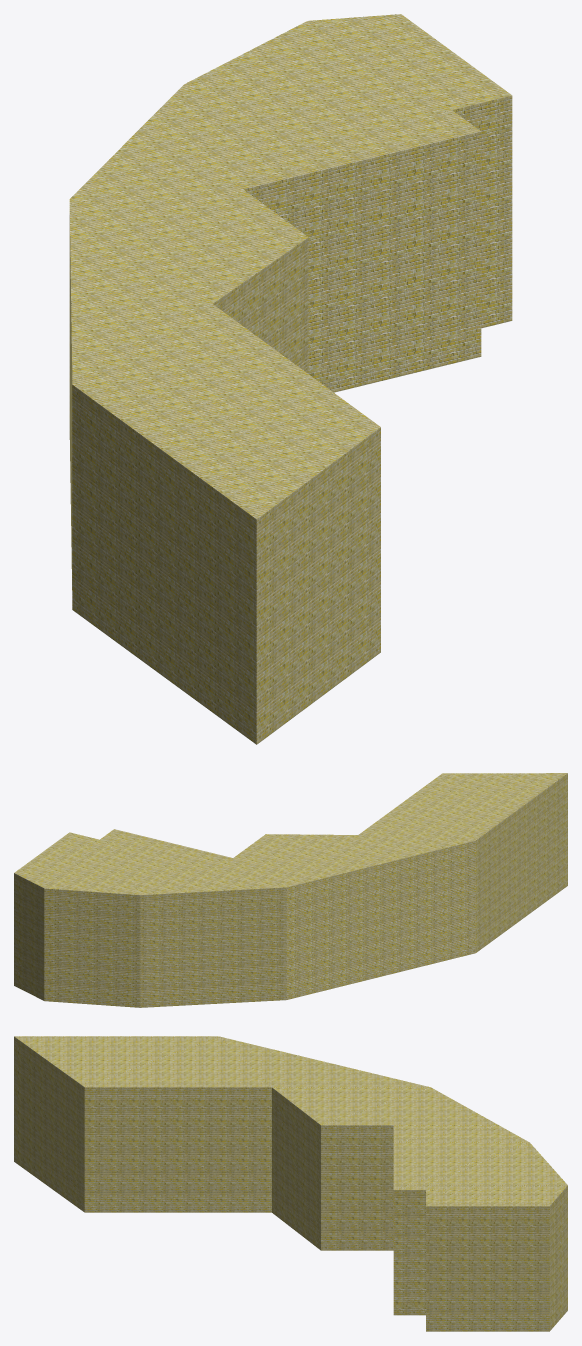
The model's file is greggs_simple.glb.
3 views of the same model, one above another, from view 1: azimuth 30°, elevation 25°; view 2: azimuth 150°, elevation 25°; view 3: azimuth 270°, elevation 25° (orthographic). The views are drawn at different scales.
Visible parts, largest first — view 1: root; view 2: root; view 3: root.
Boxes of the visible parts, x1,y1,x2,y2 form: root: (69, 14, 512, 744); root: (14, 773, 567, 1007); root: (14, 1036, 567, 1331).
Bounding box in the file's own units: 36.63 × 12.6 × 50.47.
1 material, 1 textured.
